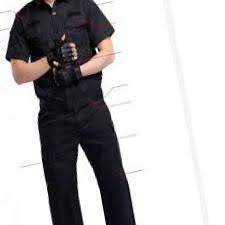uniform: (10, 3, 147, 225)
